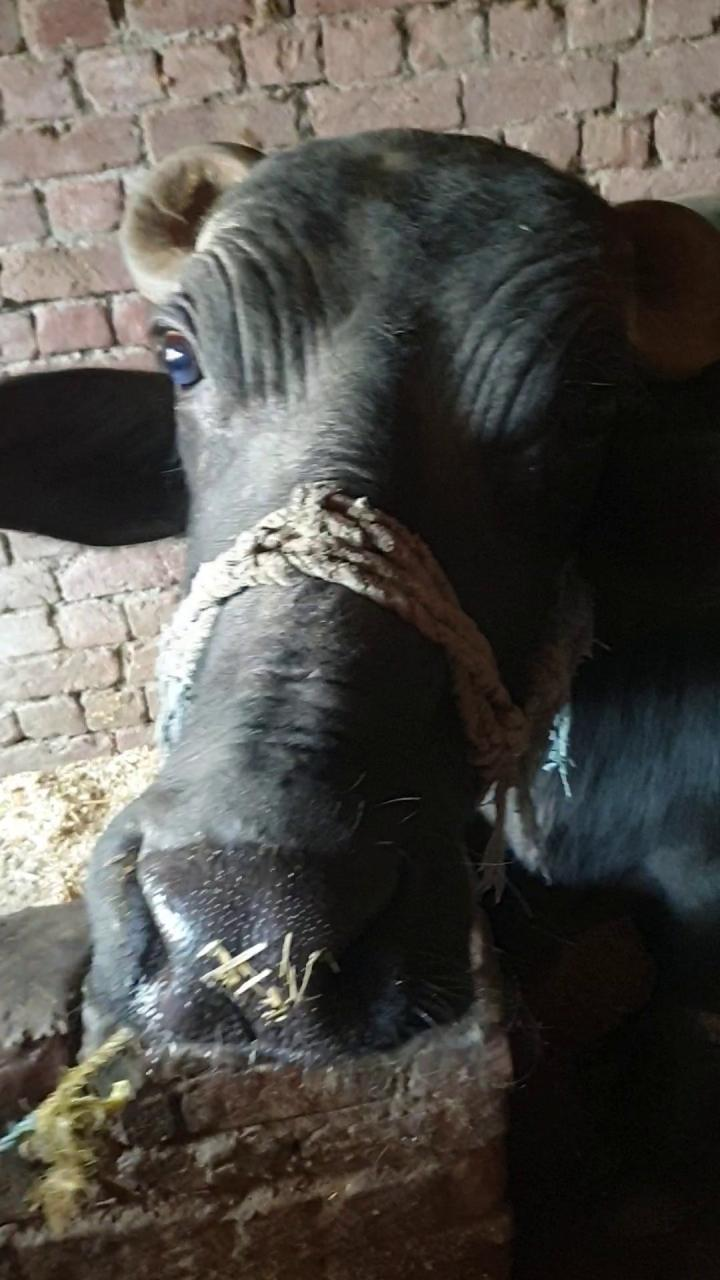cows: (63, 183, 625, 1035)
